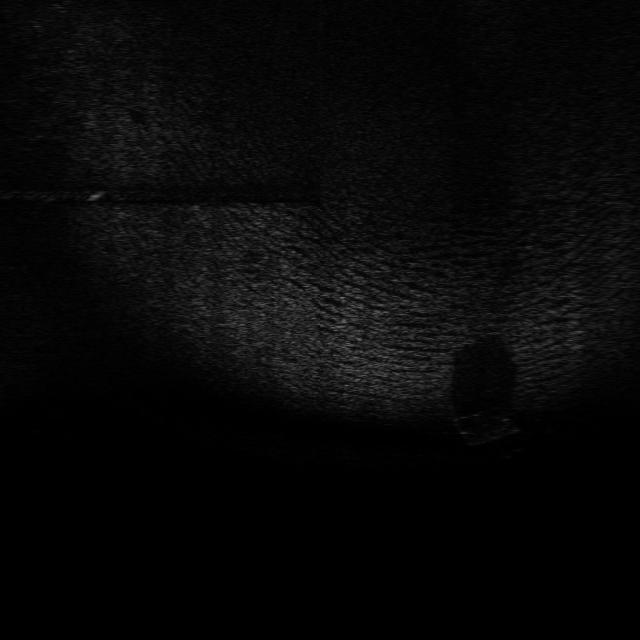cube: (450, 412, 520, 448)
